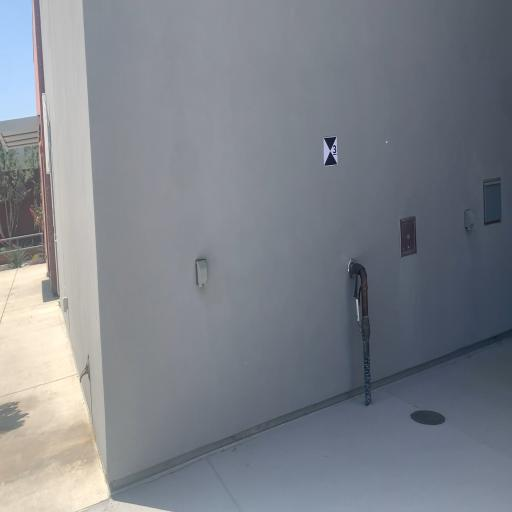target3: (324, 135, 338, 166)
